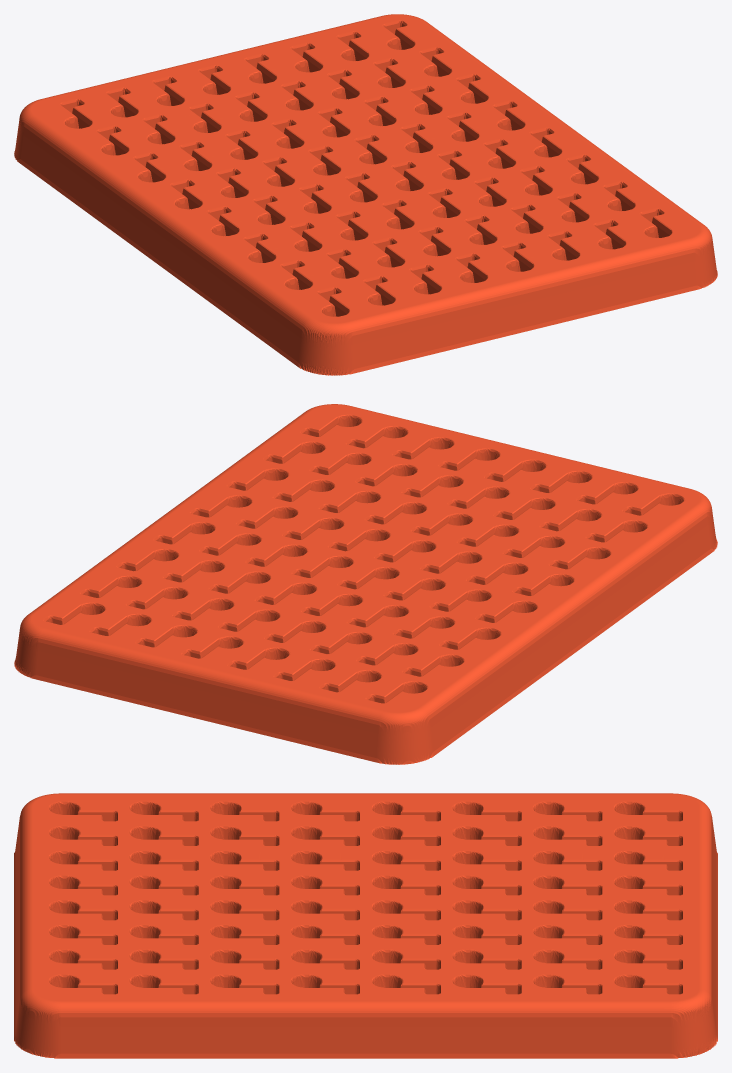
Rendered from mold.glb.
3 views of the same model, one above another, from view 1: azimuth 30°, elevation 25°; view 2: azimuth 150°, elevation 25°; view 3: azimuth 270°, elevation 25° (orthographic). The views are drawn at different scales.
Parts seen in each view (by area): view 1: geometry_0; view 2: geometry_0; view 3: geometry_0.
Boxes of the visible parts, bbox=[...] form: geometry_0: bbox=[14, 14, 717, 375]; geometry_0: bbox=[14, 404, 717, 764]; geometry_0: bbox=[14, 793, 717, 1058].
Bounding box in the file's own units: 0.1013 × 0.0105 × 0.1355.
